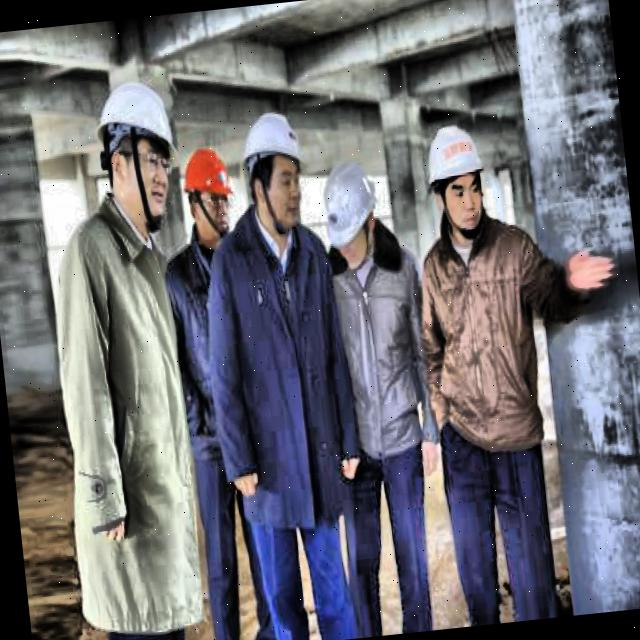helmet: (92, 72, 182, 238), (238, 102, 310, 233), (418, 120, 495, 240), (316, 153, 384, 274), (174, 140, 240, 248)
